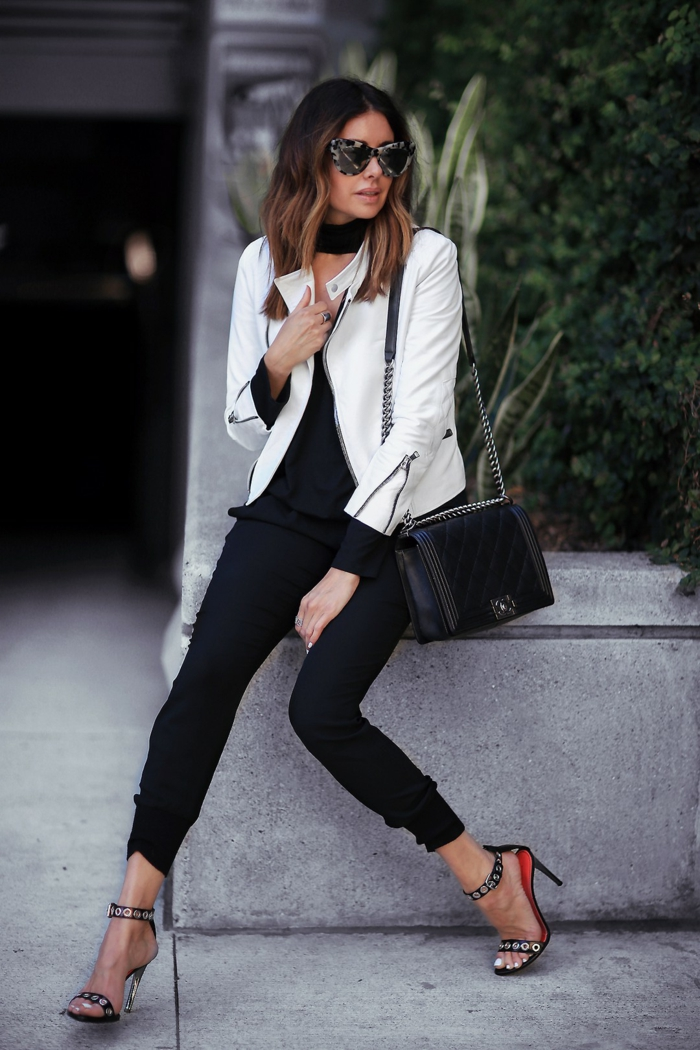F_W_suit jacket: (216, 224, 505, 538)
